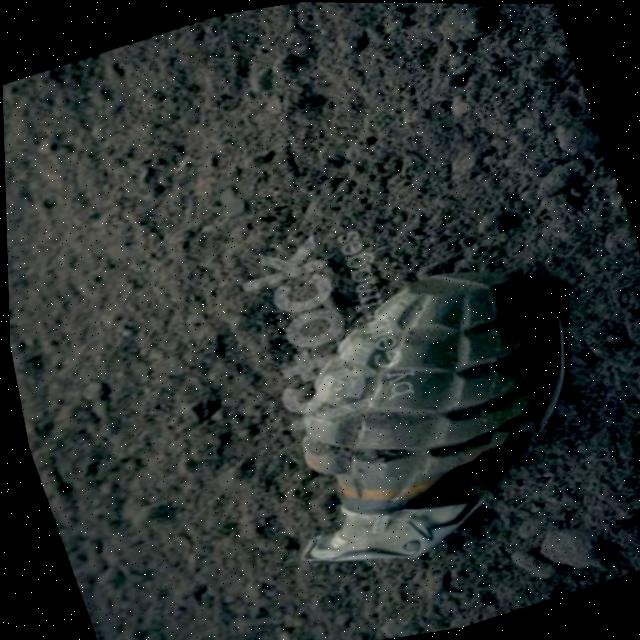grenade: (218, 234, 635, 595)
